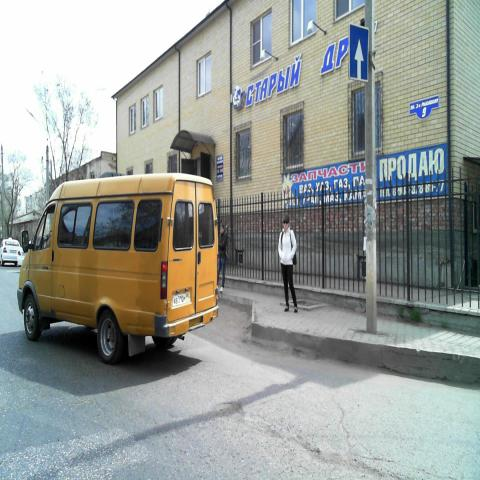5_5: (349, 24, 369, 81)
